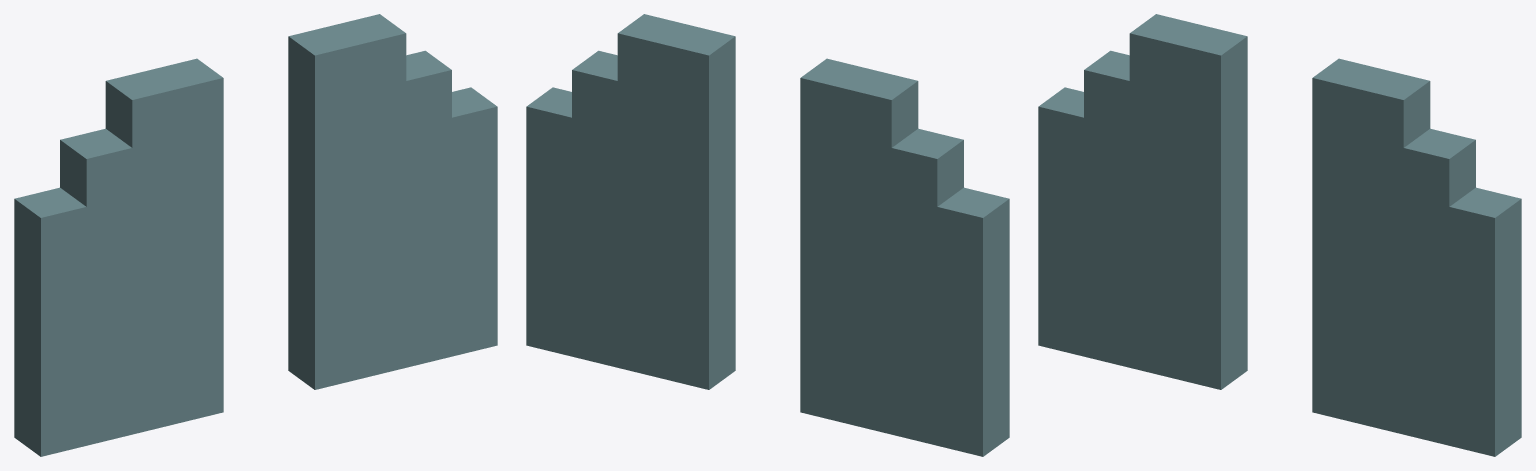
The model's file is tavern-21-door_glass.obj.
The picture shows the model from 3 angles, left to right: view 1: azimuth 30°, elevation 25°; view 2: azimuth 150°, elevation 25°; view 3: azimuth 330°, elevation 25°; orthographic projection.
Visible parts, largest first — view 1: door_glass; view 2: door_glass; view 3: door_glass.
Boxes of the visible parts, x1=… form: door_glass: x1=14, y1=14, x2=497, y2=456; door_glass: x1=526, y1=14, x2=1009, y2=456; door_glass: x1=1038, y1=14, x2=1521, y2=456.
Bounding box in the file's own units: 1 × 0.7 × 0.1.
1 material, 1 textured.
